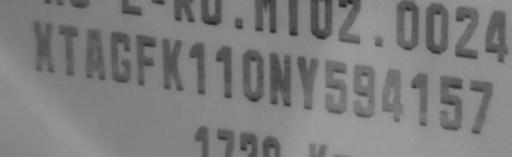letter: (434, 72, 466, 133), (378, 67, 408, 128), (466, 75, 496, 136), (238, 46, 266, 107), (267, 49, 295, 110), (320, 58, 348, 119), (350, 60, 378, 121), (292, 54, 320, 113), (30, 19, 58, 75), (106, 29, 134, 84), (82, 24, 108, 83), (160, 36, 186, 95), (132, 32, 158, 89), (408, 69, 432, 130), (56, 22, 82, 77), (186, 38, 210, 95), (212, 41, 234, 100)
